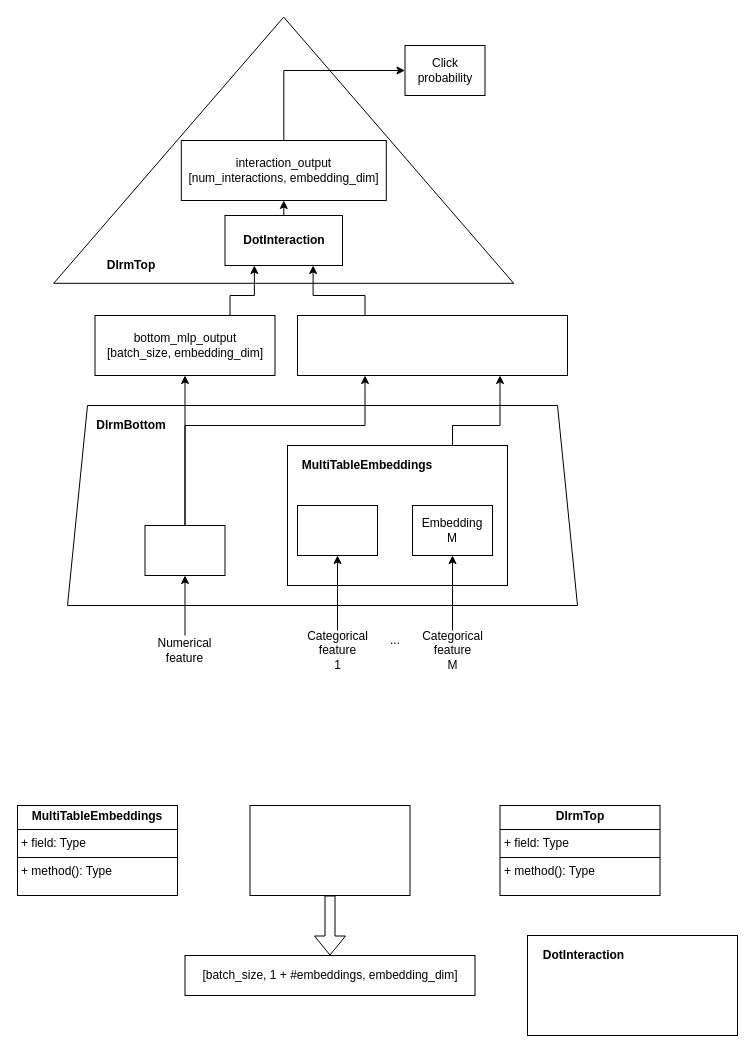
Image size: 755x1054. Some labels were removed from this diagram. Each missing label, with the centre of its shape:
"bottom_output [batch_size, 1 + #embeddings, embedding_dim]" goes at point (432, 345).
"DlrmBottom + field: Type + method(): Type" goes at point (329, 850).
"Embedding 1" goes at point (337, 530).
"mlp" goes at point (184, 550).
